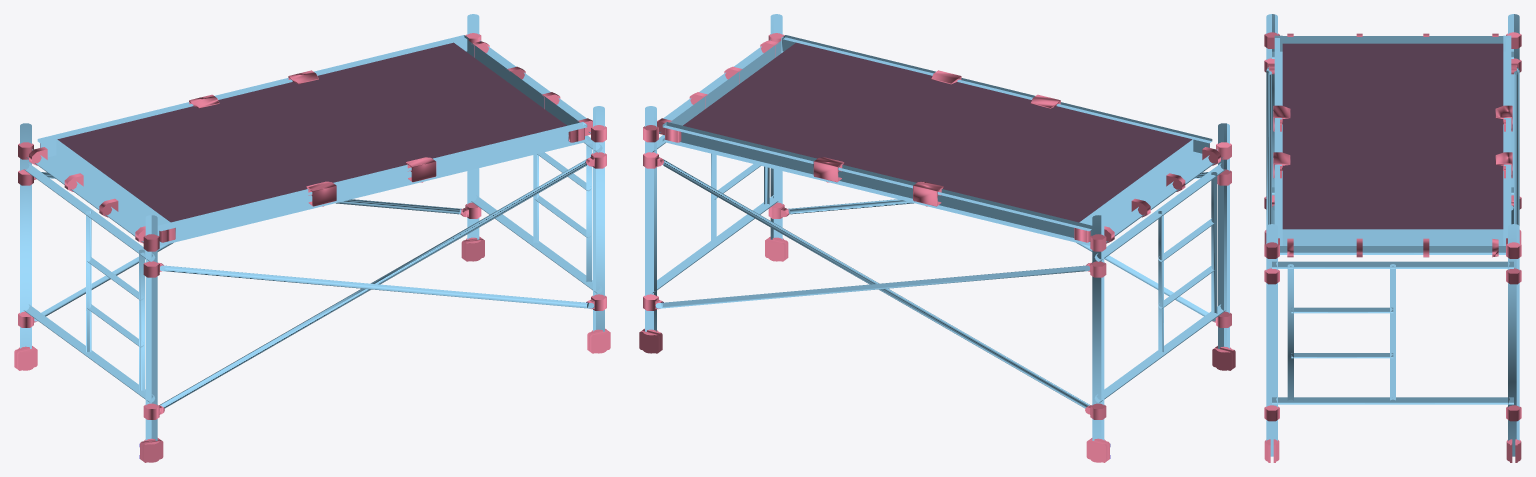
File: construction_scaffold_mid_04x02x02_a.glb
The picture shows the model from 3 angles, left to right: view 1: azimuth 30°, elevation 25°; view 2: azimuth 150°, elevation 25°; view 3: azimuth 270°, elevation 25°; orthographic projection. The views are drawn at different scales.
Bounding box in the file's own units: 4.04 × 2 × 2.
